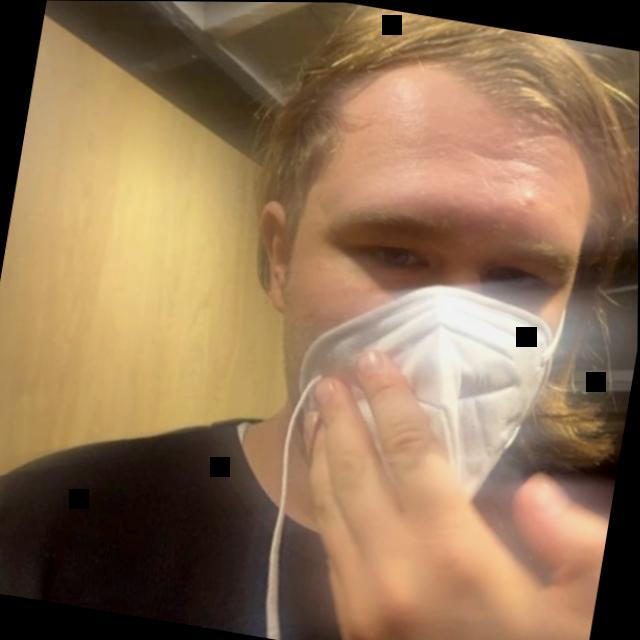Mask: (181, 13, 625, 565)
